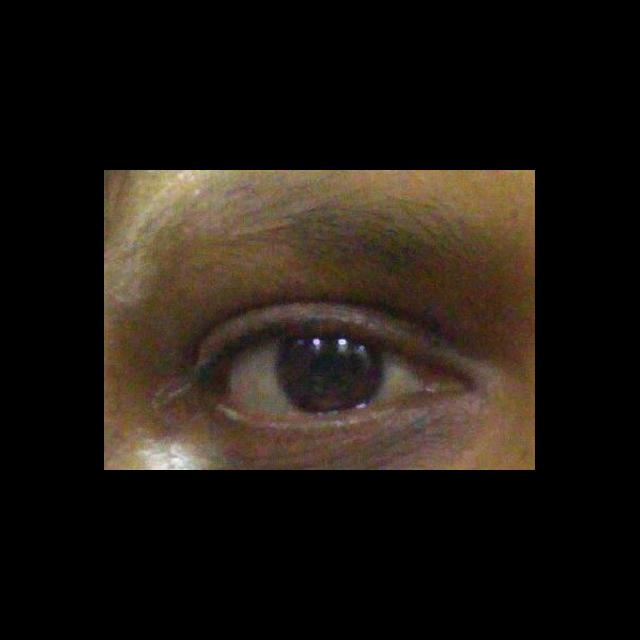eye: (227, 329, 426, 422)
iris: (277, 335, 384, 415)
